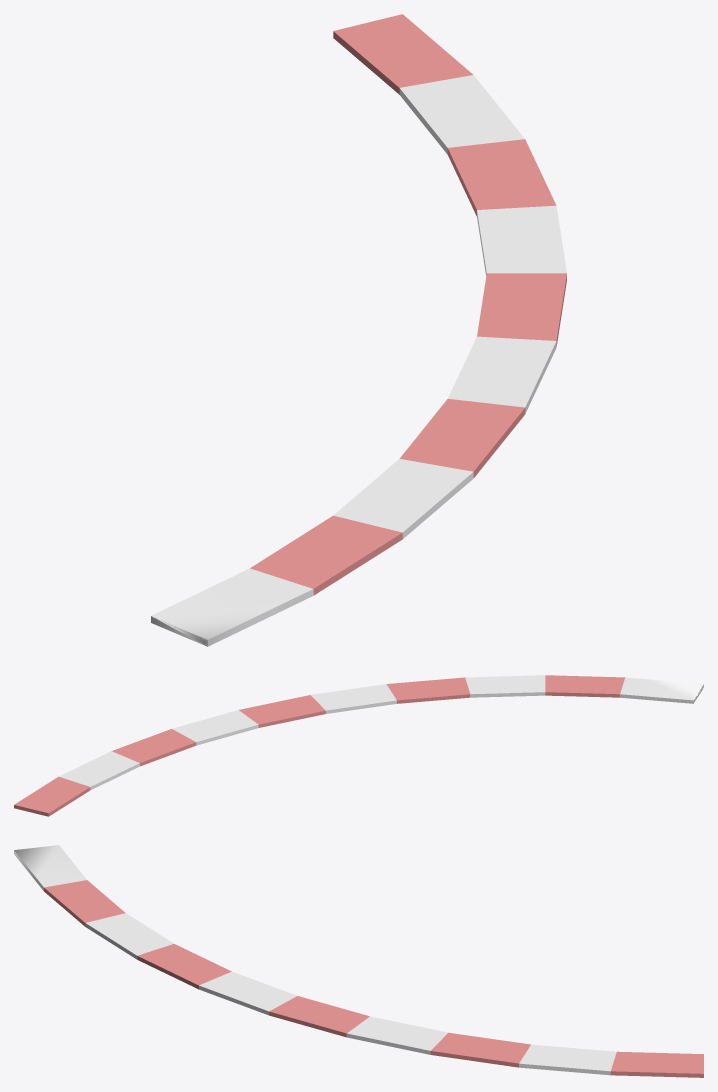
The model's file is myBorder.fbx.
3 views of the same model, one above another, from view 1: azimuth 30°, elevation 25°; view 2: azimuth 150°, elevation 25°; view 3: azimuth 270°, elevation 25° (orthographic). The views are drawn at different scales.
Visible parts, largest first — view 1: roadCornerLargerBorder; view 2: roadCornerLargerBorder; view 3: roadCornerLargerBorder.
Boxes of the visible parts, x1,y1,x2,y2 form: roadCornerLargerBorder: [151, 14, 566, 646]; roadCornerLargerBorder: [14, 675, 703, 816]; roadCornerLargerBorder: [14, 845, 703, 1077].
Bounding box in the file's own units: 2434 × 20 × 3101.
